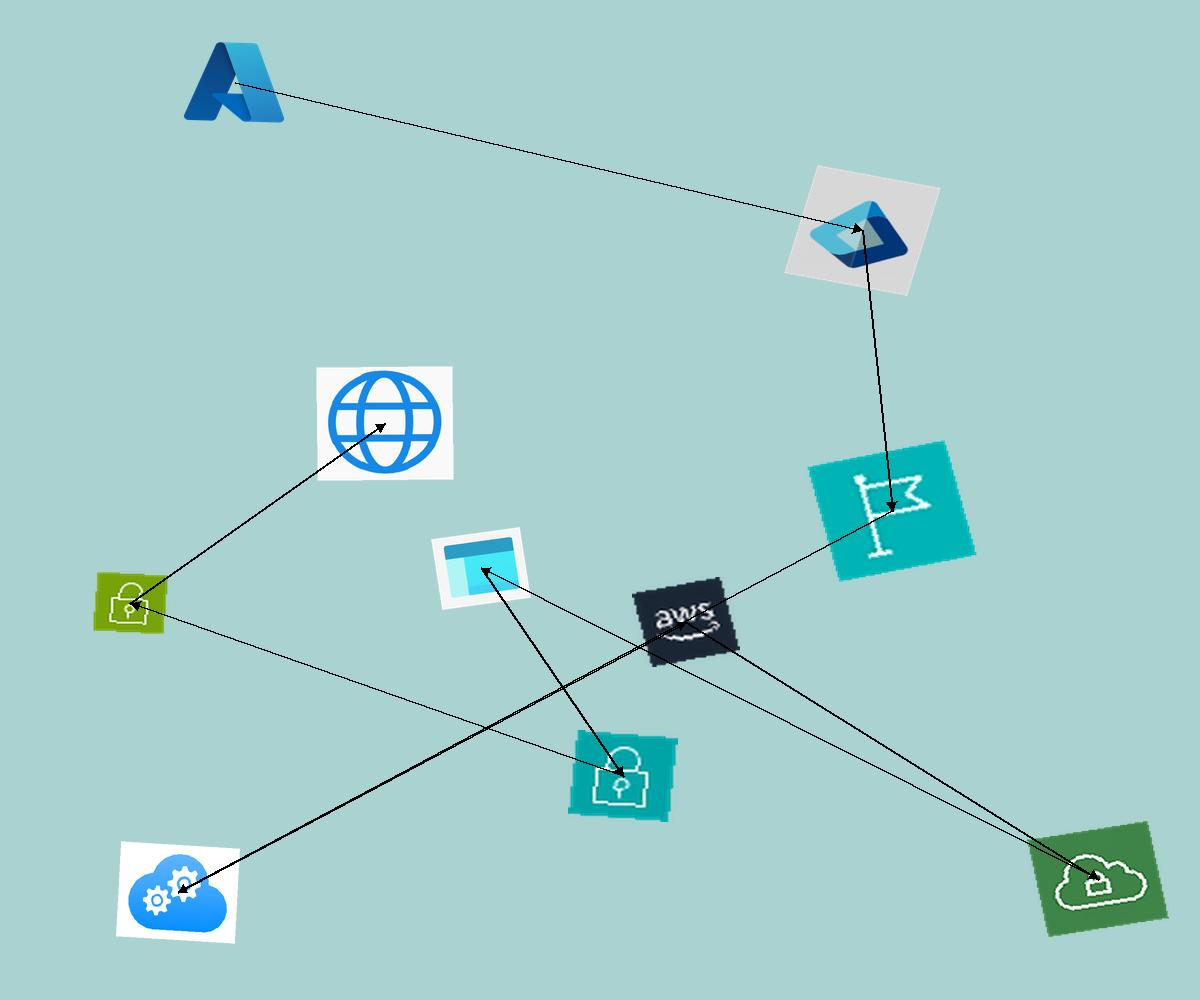AWS-Cloud-logo: (632, 577, 740, 667)
AWS-Private-subnet: (568, 730, 678, 822)
AWS-Private_vpc: (1027, 820, 1169, 938)
AWS-Public-subnet: (92, 571, 169, 635)
AWS-Region: (806, 439, 978, 583)
Azure_cloud_services: (116, 841, 240, 944)
Azure_http: (316, 366, 454, 481)
Azure_management-portal: (431, 527, 531, 610)
Azure_microsoft_entra: (784, 165, 941, 296)
Azure_services: (179, 35, 292, 129)
